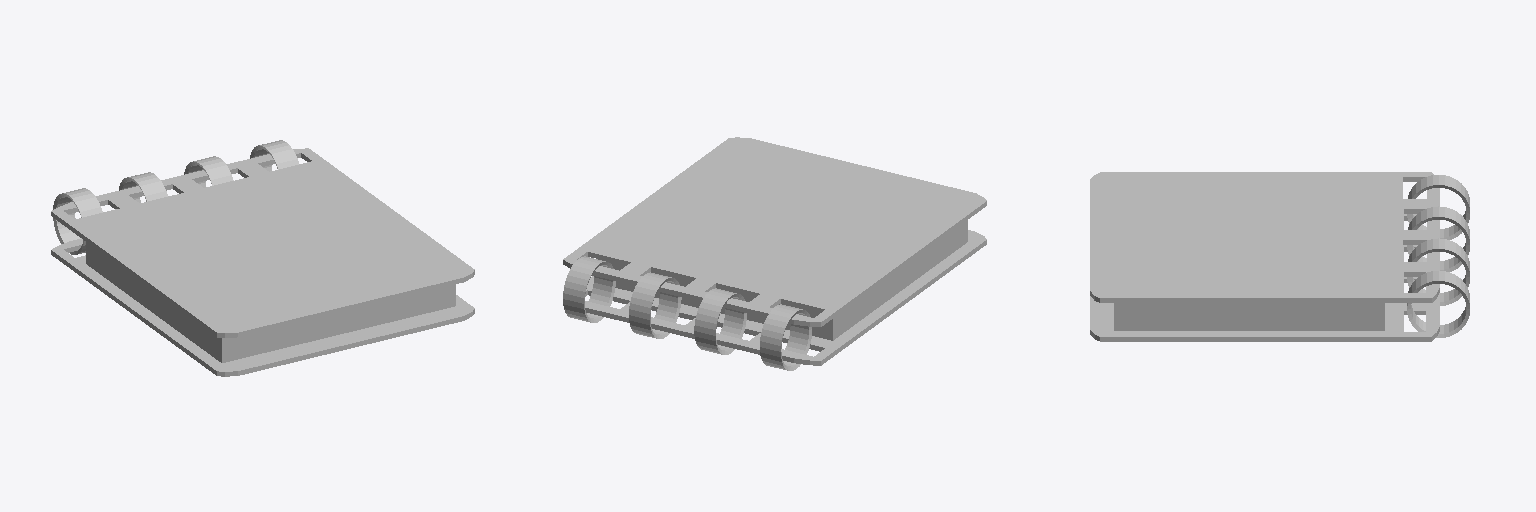
Rendered from notebook3.obj.
3 views of the same model, side by side, from view 1: azimuth 30°, elevation 25°; view 2: azimuth 150°, elevation 25°; view 3: azimuth 270°, elevation 25° (orthographic).
Parts seen in each view (by area): view 1: Mesh1; view 2: Mesh1; view 3: Mesh1.
Boxes of the visible parts, box(x1,y1,x2,y2) form: Mesh1: box(51, 140, 474, 376); Mesh1: box(563, 137, 986, 370); Mesh1: box(1090, 172, 1469, 341).
Bounding box in the file's own units: 4.63 × 0.9839 × 5.91.